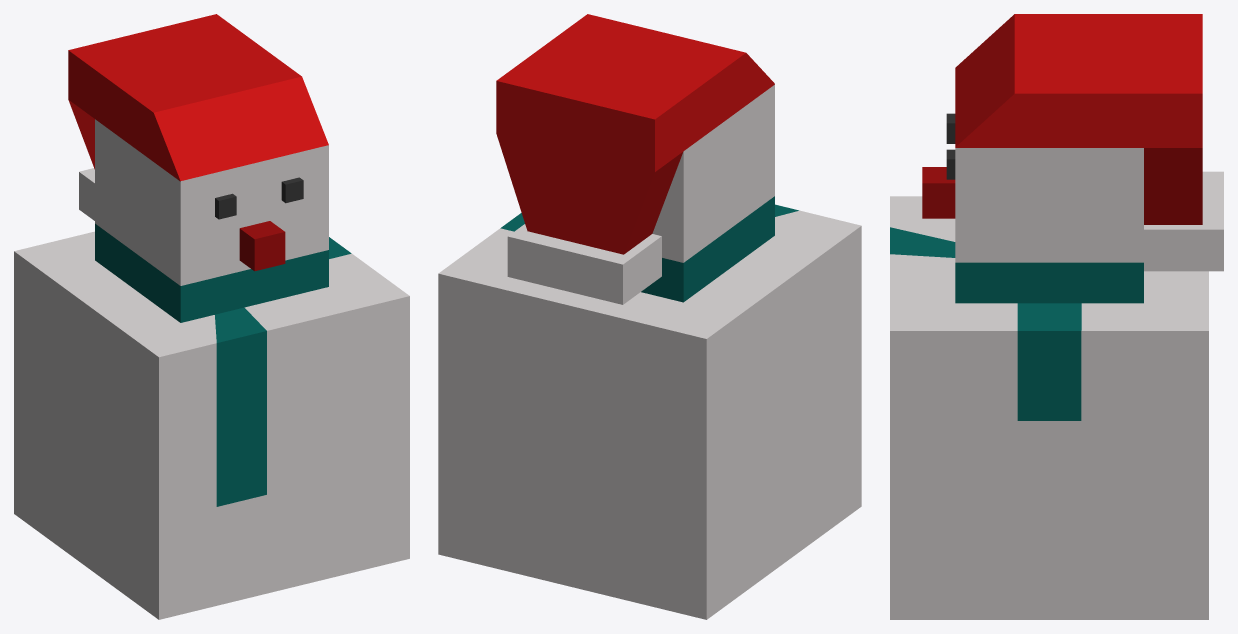
The model's file is 034 Snow_man.fbx.
The picture shows the model from 3 angles, left to right: view 1: azimuth 30°, elevation 25°; view 2: azimuth 150°, elevation 25°; view 3: azimuth 270°, elevation 25°; orthographic projection. The views are drawn at different scales.
Visible parts, largest first — view 1: Lowpoly_Christmas_Pack_034:pCube5; view 2: Lowpoly_Christmas_Pack_034:pCube5; view 3: Lowpoly_Christmas_Pack_034:pCube5.
Boxes of the visible parts, x1,y1,x2,y2 form: Lowpoly_Christmas_Pack_034:pCube5: [14, 14, 409, 619]; Lowpoly_Christmas_Pack_034:pCube5: [438, 14, 861, 619]; Lowpoly_Christmas_Pack_034:pCube5: [890, 14, 1223, 619].
Size of the model in its own units: 1.5 by 2.59 by 1.57.
